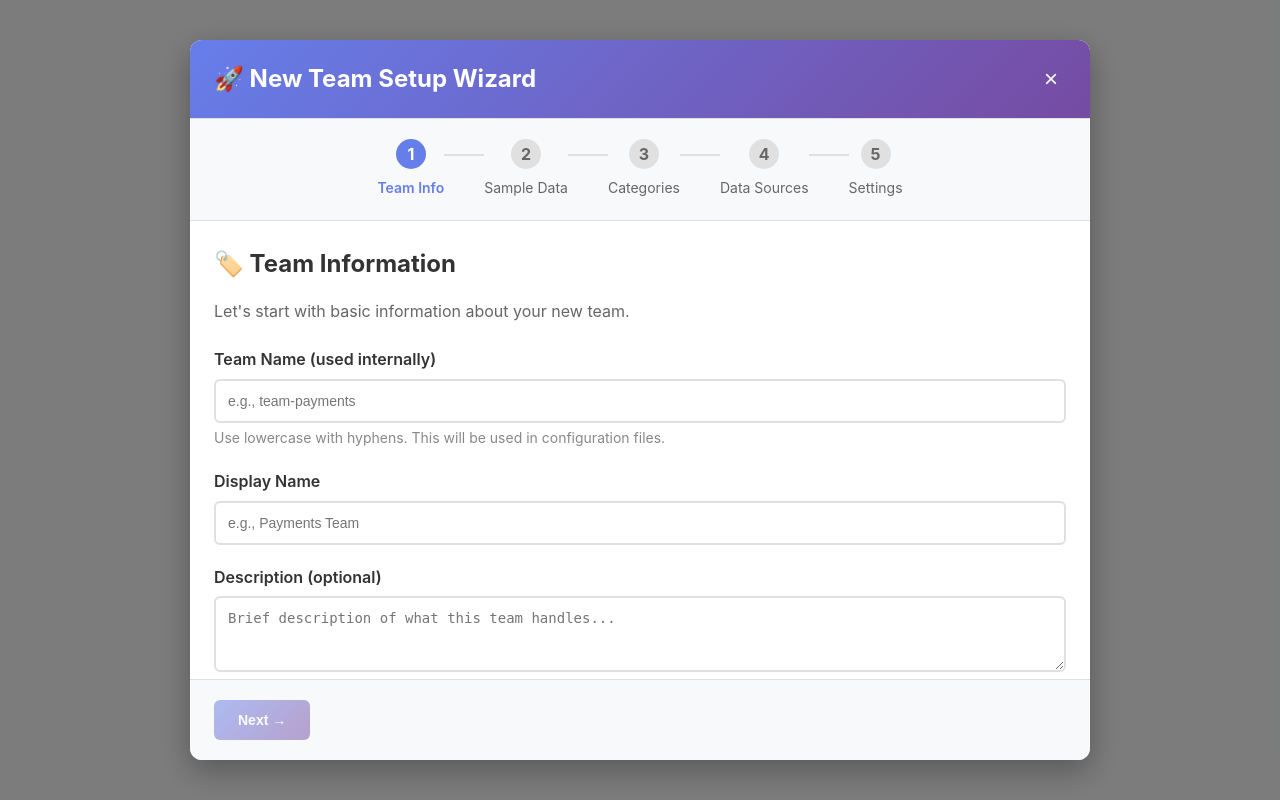
Test: NewTeamWizard › validates team name and display name before allowing next step
The width and height of the screenshot is (1280, 800).
Expected: the button "Next →" is disabled, left=214, top=700, right=310, bottom=740
Fill in team name only
Type "team-payments" into the field labelled "Team Name (used internally)" at (640, 401), box left=214, top=379, right=1066, bottom=423
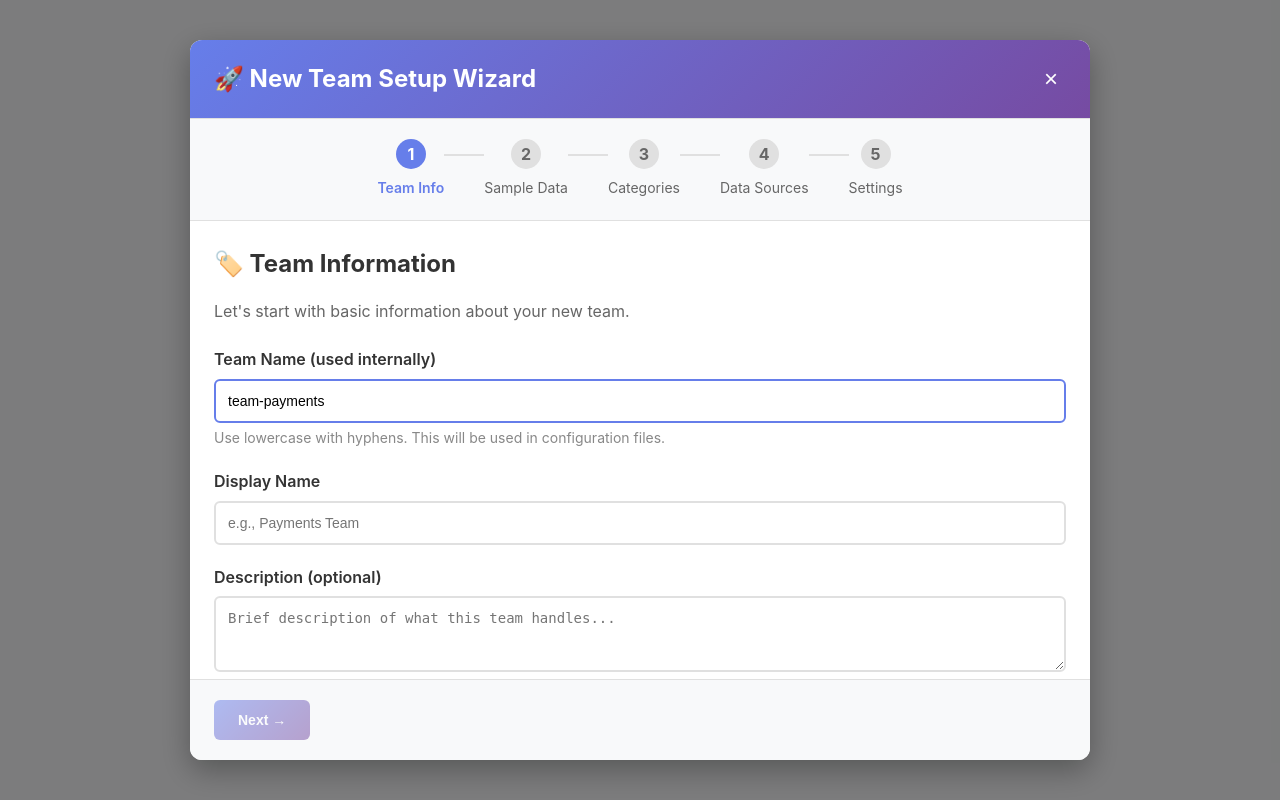
Expected: the button "Next →" is disabled, left=214, top=700, right=310, bottom=740
Fill in display name
Type "Payments Team" into the field labelled "Display Name" at (640, 523), box left=214, top=501, right=1066, bottom=545
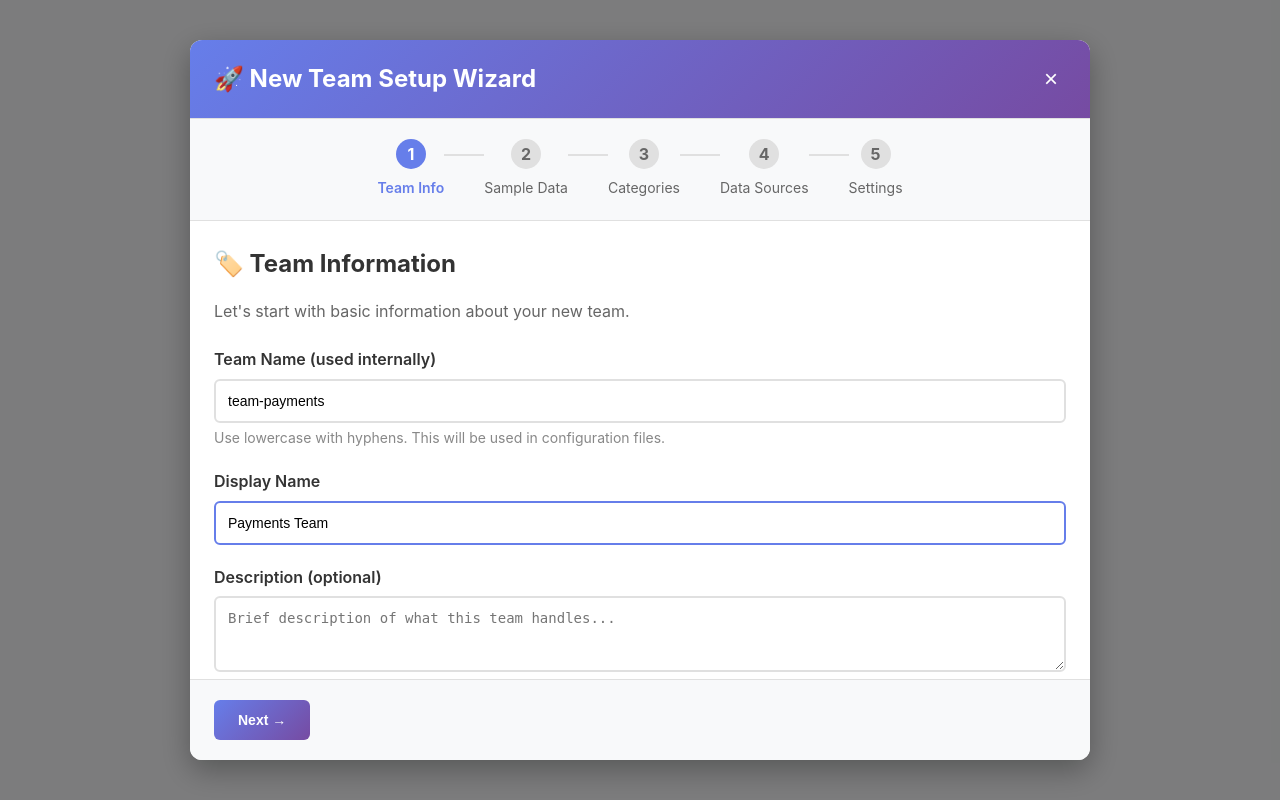
Expected: the button "Next →" is enabled, left=214, top=700, right=310, bottom=740
